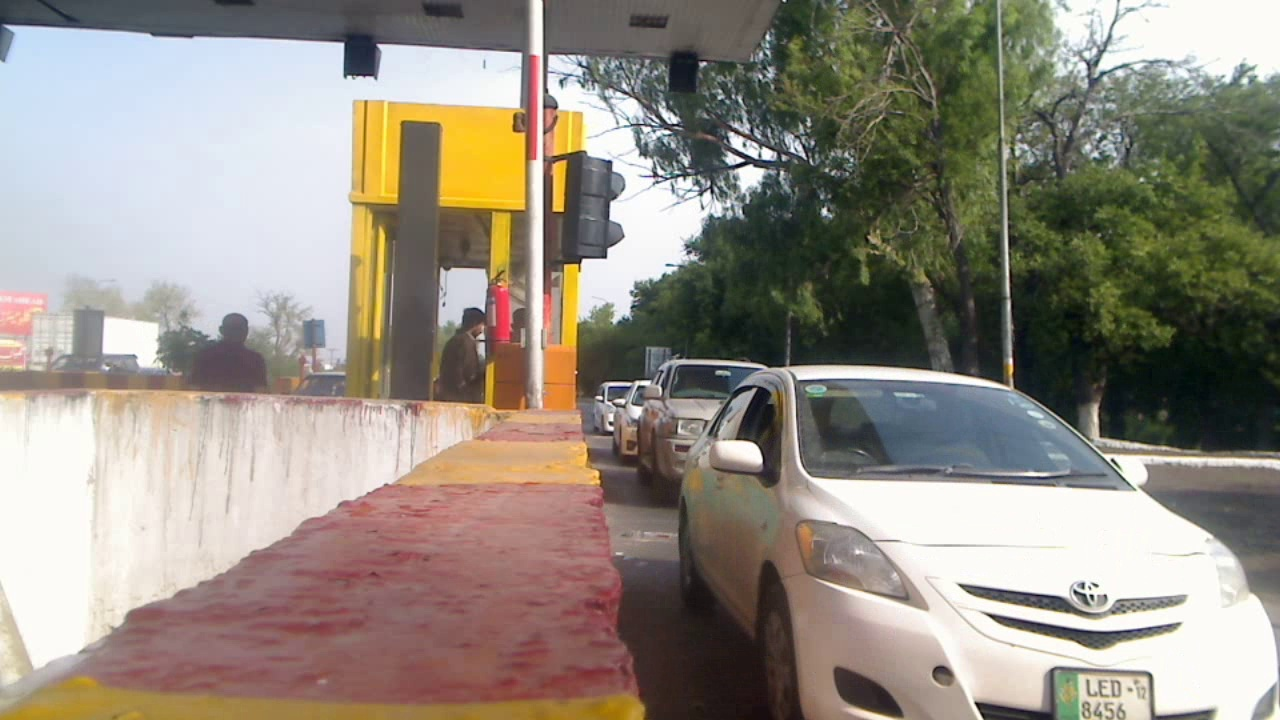Number Plate (Car): (1057, 670, 1149, 720)
